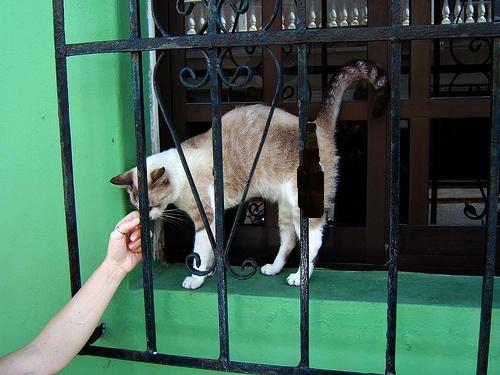tampered: (298, 124, 324, 218)
